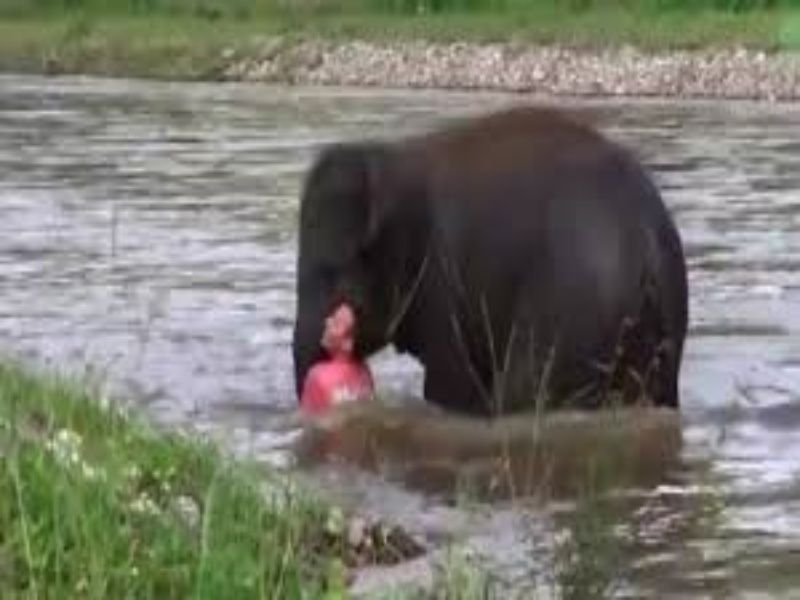elephant: (292, 104, 691, 423)
